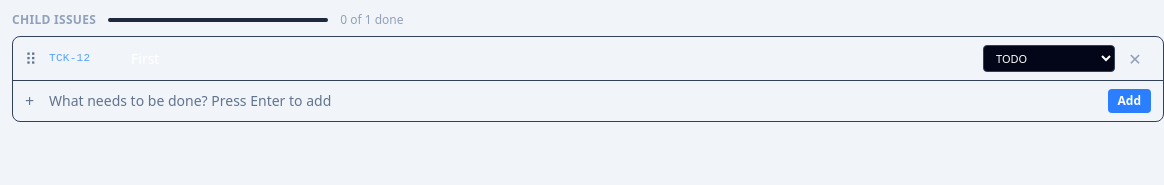
Test: ChildIssuesList › shows an inline error when the status update fails
Step 1. Select "DONE" in the dropdown showing "TODO" → (1049,58), box [983,45,1115,72]
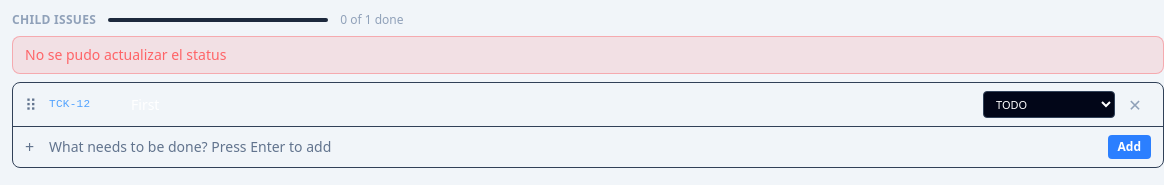
expect the text "No se pudo actualizar el status" is shown: met, box [12,36,1163,74]
